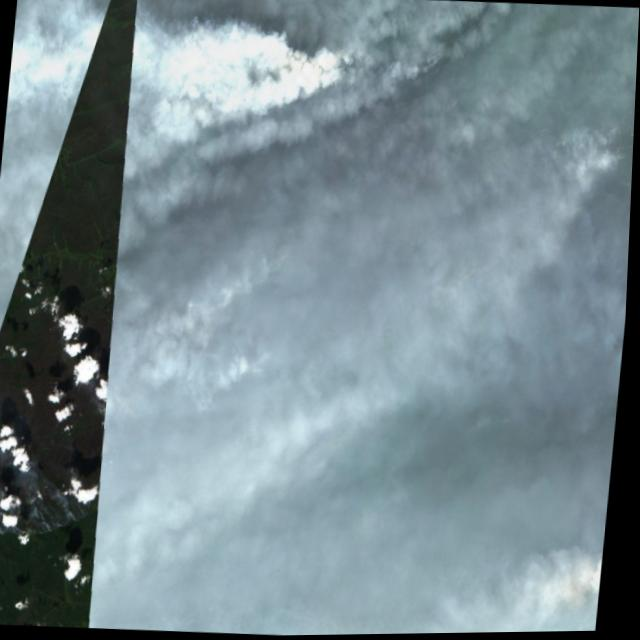fire: (0, 477, 97, 551)
